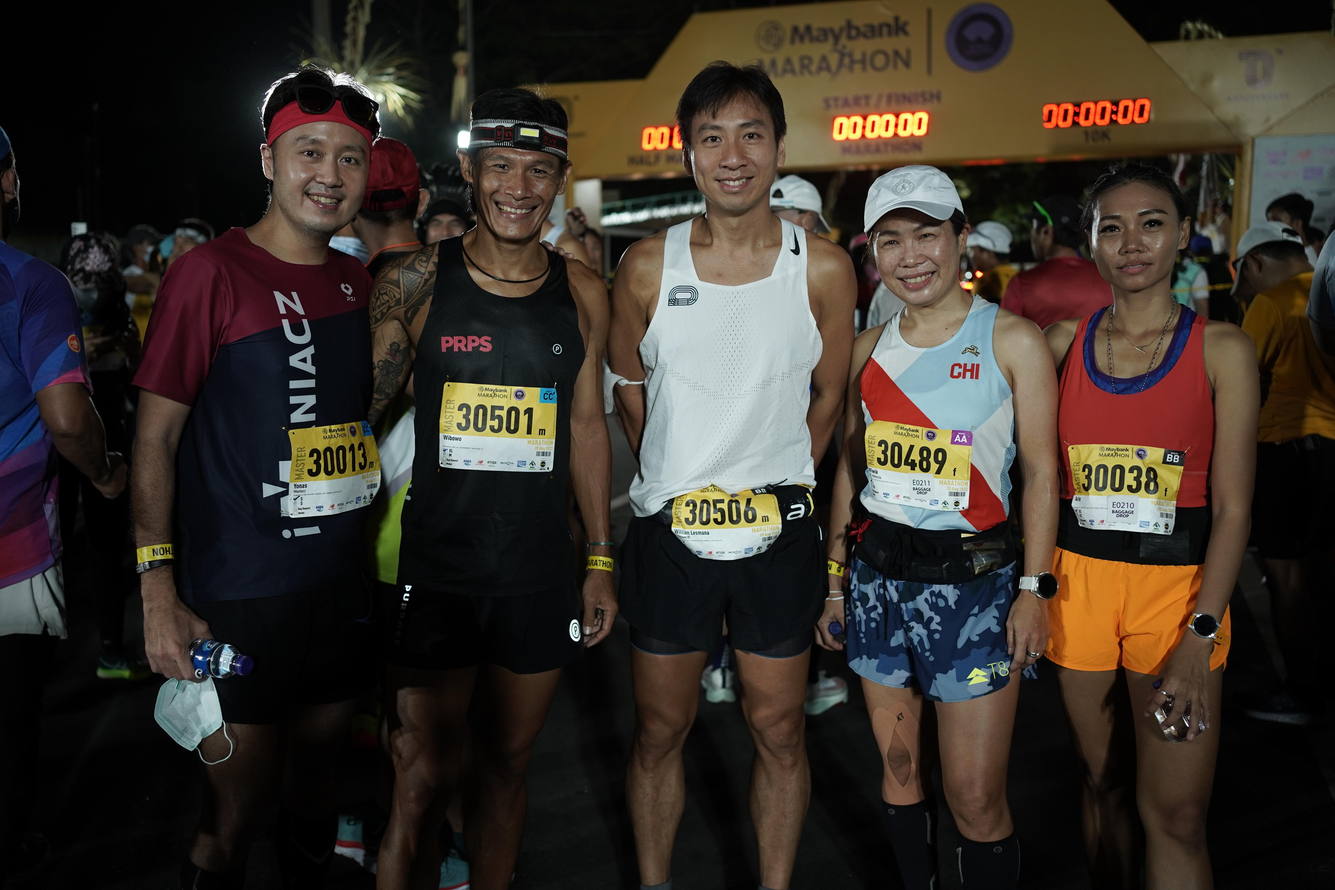bib: (1068, 443, 1183, 535), (440, 381, 554, 472), (864, 419, 971, 512), (289, 427, 383, 517), (673, 491, 783, 561)
